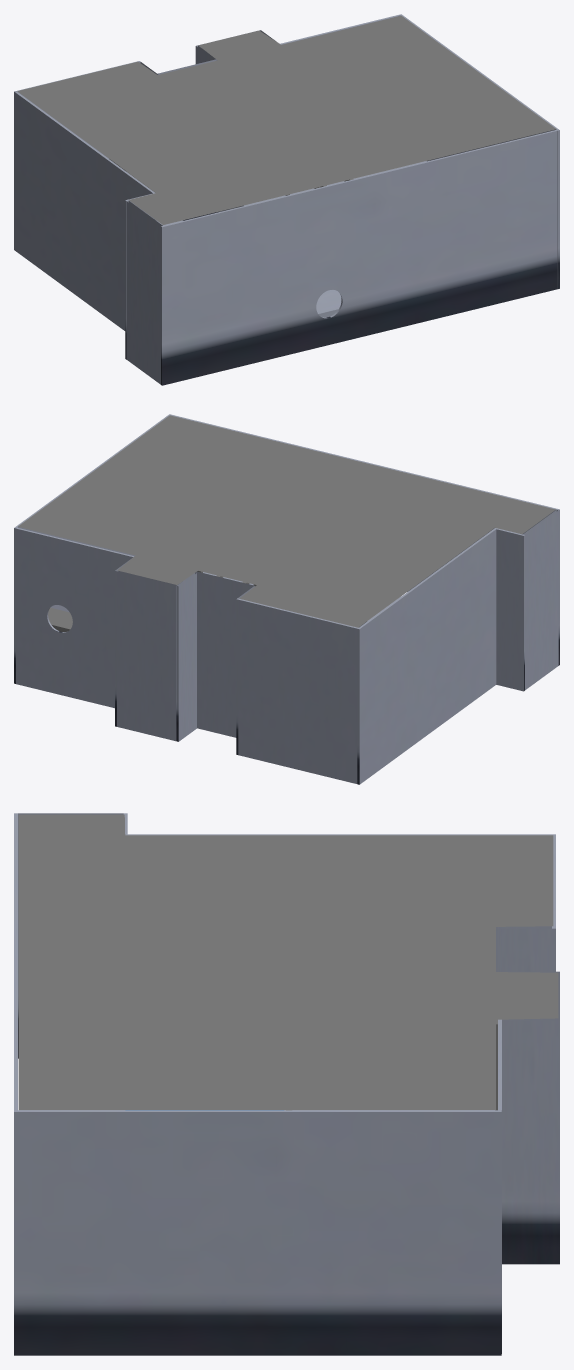
Rendered from portal1.obj.
3 views of the same model, one above another, from view 1: azimuth 30°, elevation 25°; view 2: azimuth 150°, elevation 25°; view 3: azimuth 270°, elevation 25° (orthographic). The views are drawn at different scales.
Visible parts, largest first — view 1: murs mur_bas, plafond murs, murs mur_gauche, murs mur_haute, murs mur_droite, pf_principale plateforme; view 2: plafond murs, murs mur_haute, murs mur_gauche, murs mur_bas, murs mur_droite, plateforme pf_porte_sortie; view 3: plafond murs, murs mur_droite, murs mur_haute, murs mur_gauche, murs mur_bas.
Part boxes in pixels (x1,y1,x2,y2): murs mur_bas: (161,130,557,385); plafond murs: (17,15,556,224); murs mur_gauche: (14,91,162,384); murs mur_haute: (16,15,400,220); murs mur_droite: (399,14,559,288); pf_principale plateforme: (218,161,426,317); plafond murs: (18,415,555,627); murs mur_haute: (16,527,358,783); murs mur_gauche: (357,510,558,784); murs mur_bas: (171,415,559,665); murs mur_droite: (14,414,171,683); plateforme pf_porte_sortie: (48,607,72,631); plafond murs: (18,814,558,1109); murs mur_droite: (14,1110,501,1355); murs mur_haute: (498,836,559,1353); murs mur_gauche: (18,813,555,1058); murs mur_bas: (14,813,17,1110).
Bounding box in the file's own units: 523 × 200 × 404.
3 materials, 1 textured.
